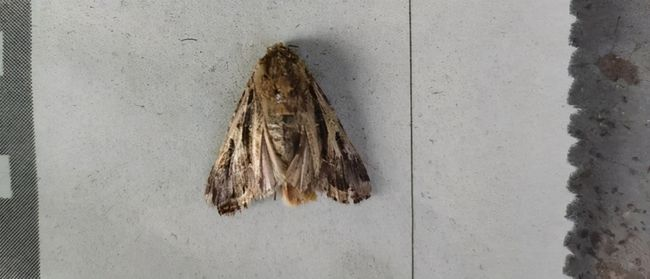feie: (194, 44, 379, 217)
